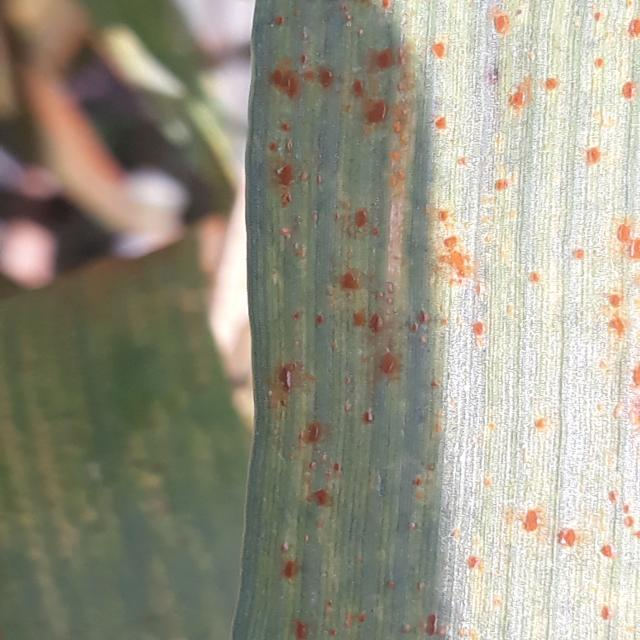orang_rust: (227, 3, 640, 640)
